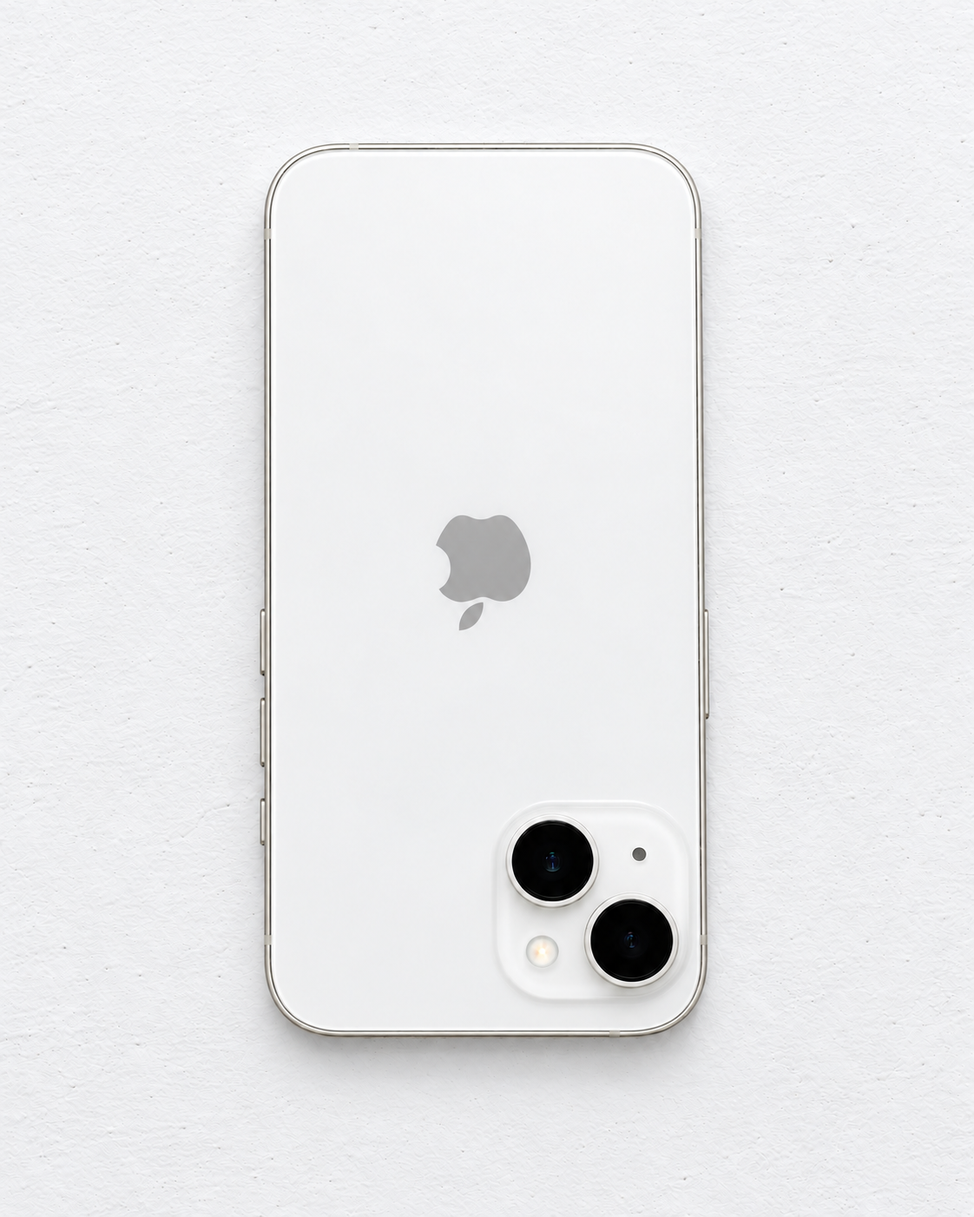iphone_14_white: (203, 104, 743, 1093), (504, 806, 682, 1010)
